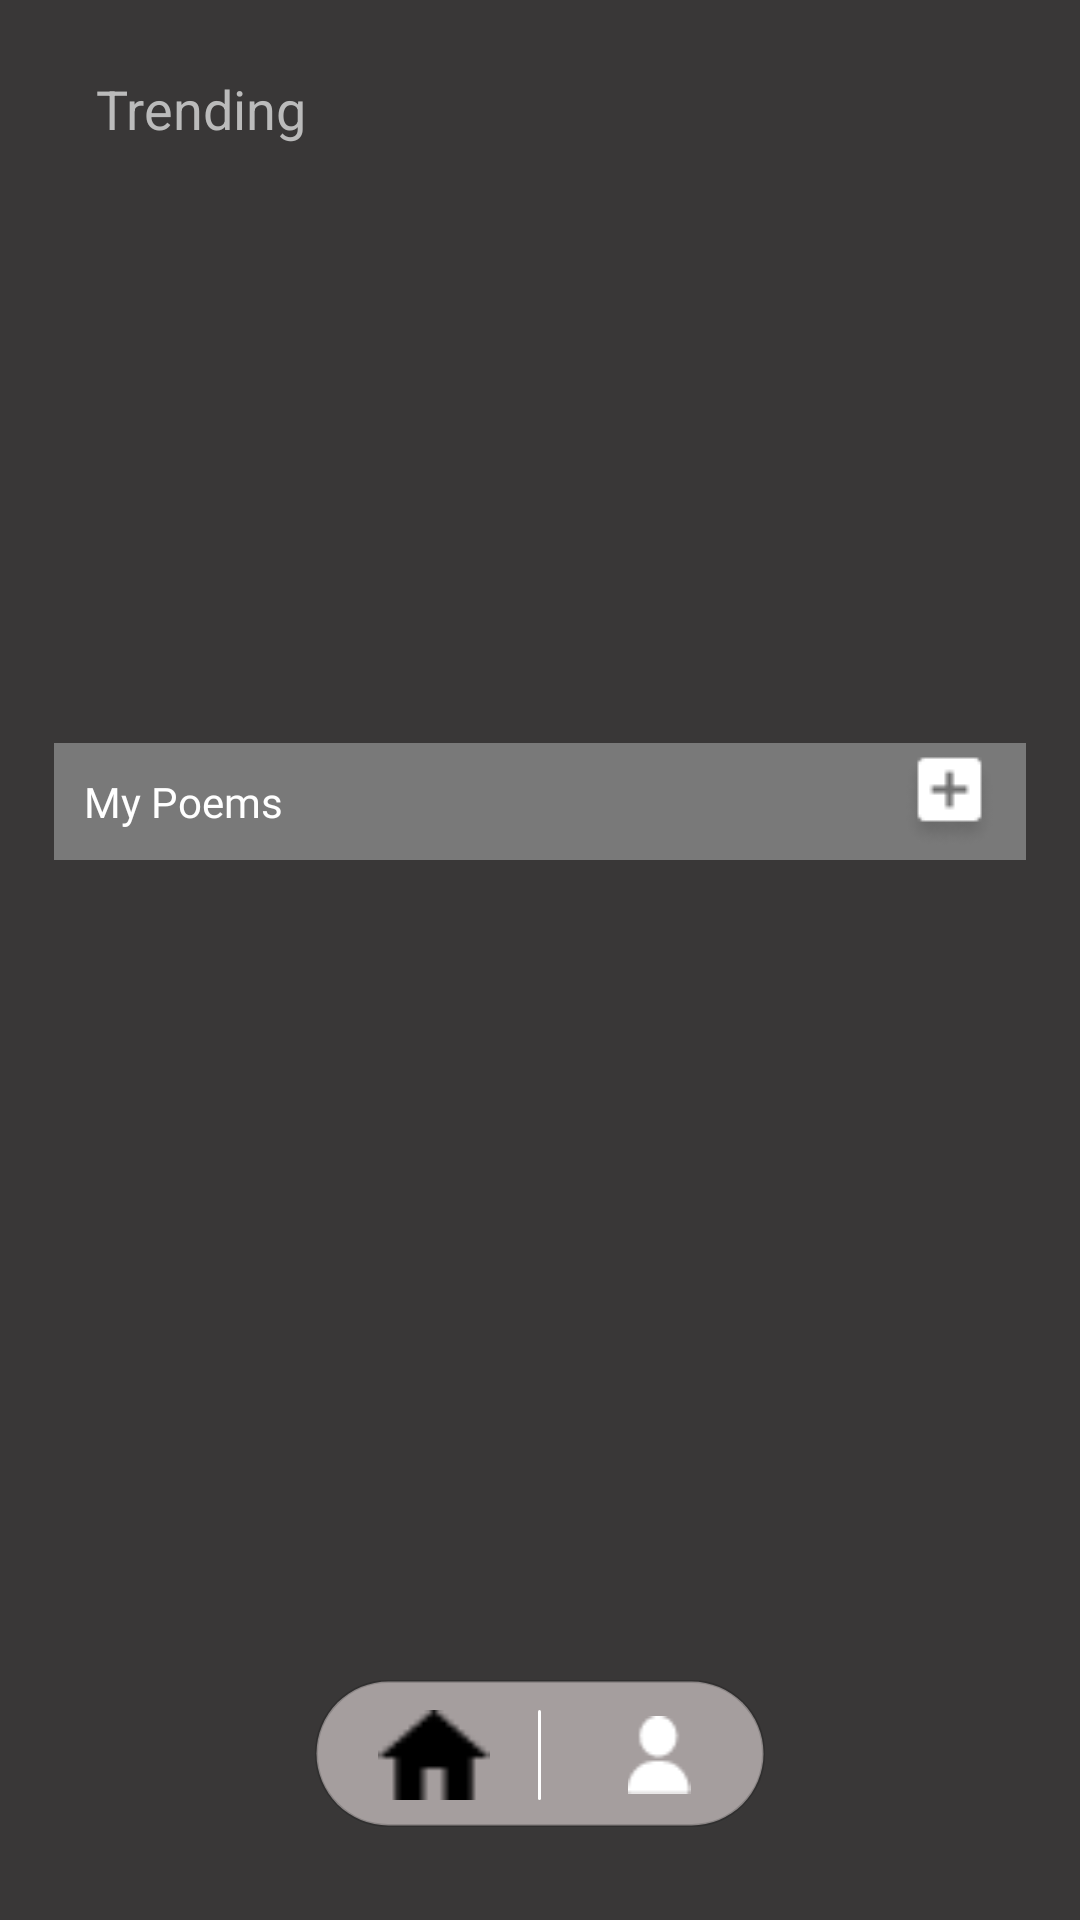

Icons on this 1080 x 1920 Android screen, each with the point to tap as (x,y):
home: (459,1755)
plus: (949,789)
profile: (659,1755)
